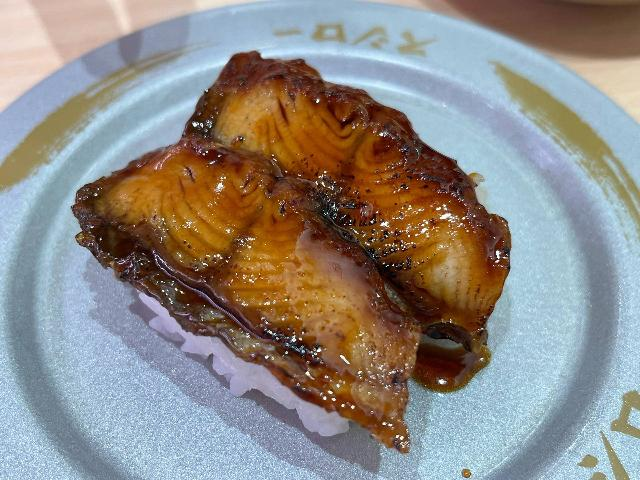janwhite: (7, 36, 625, 454)
